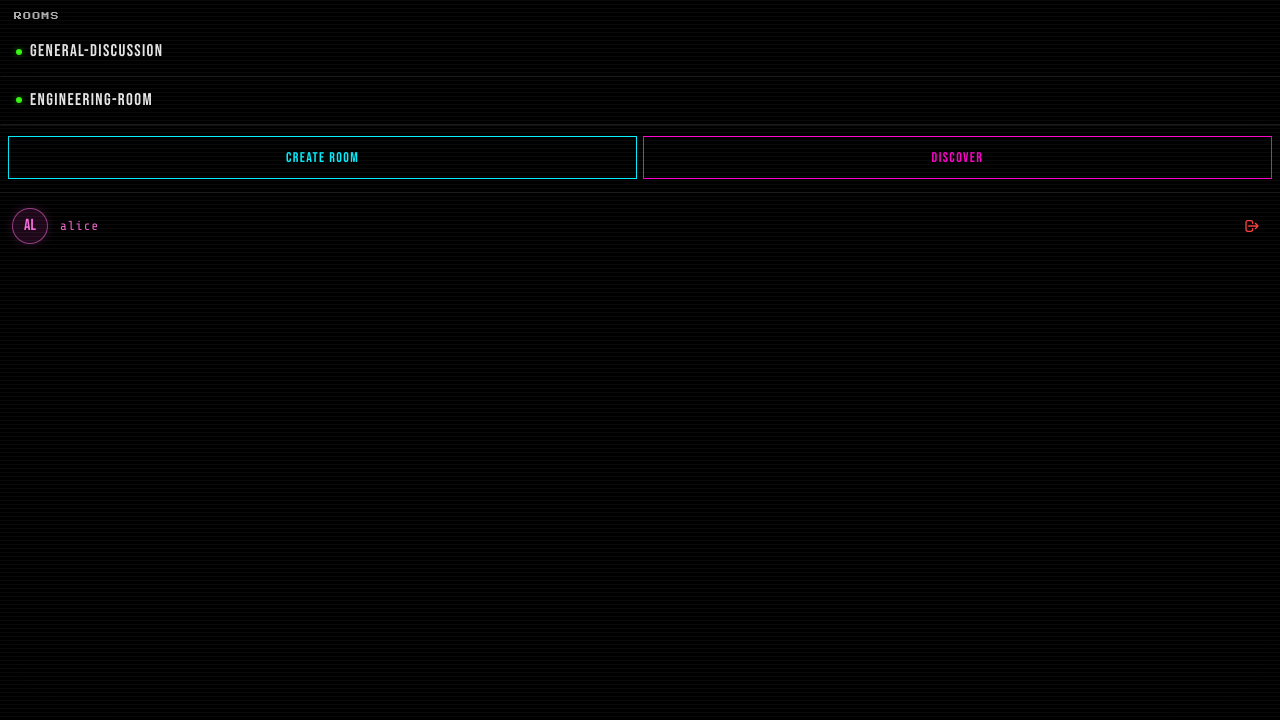
Test case: RoomList › creates room, closes modal, and selects the new room
Expected: the text "General-Discussion" is shown, [30,41,163,61]
Click the button titled "Create new room".
click(322, 158)  # box [8,136,637,179]
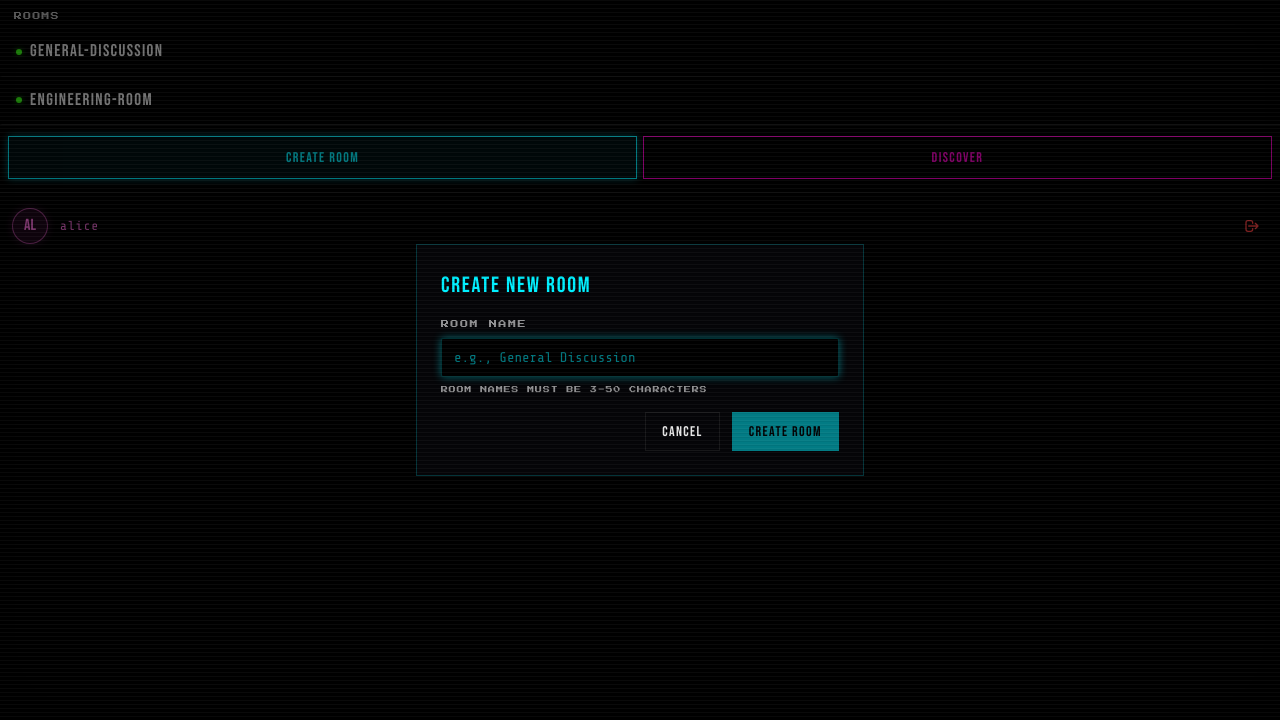
Type "Brand New Room" into the field labelled "ROOM NAME".
click(640, 358); type("Brand New Room")  # box [441,338,839,377]
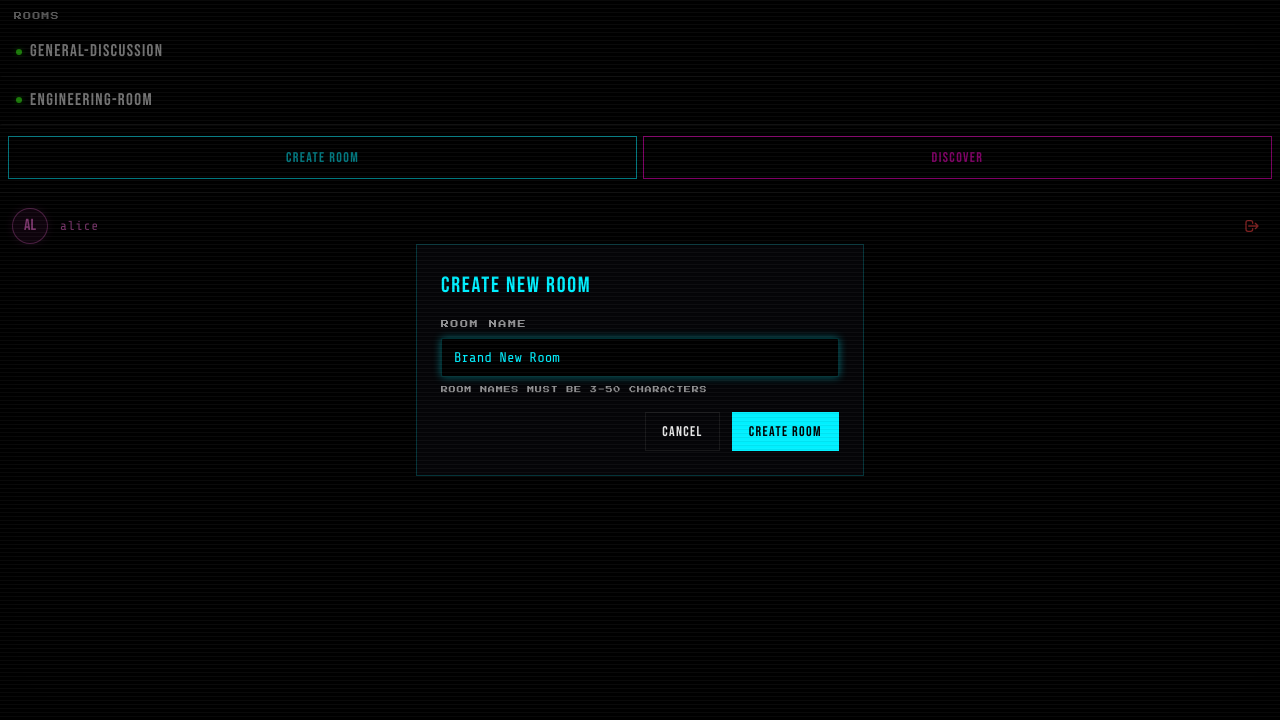
Click the button "CREATE ROOM".
click(785, 431)  # box [732,412,839,451]
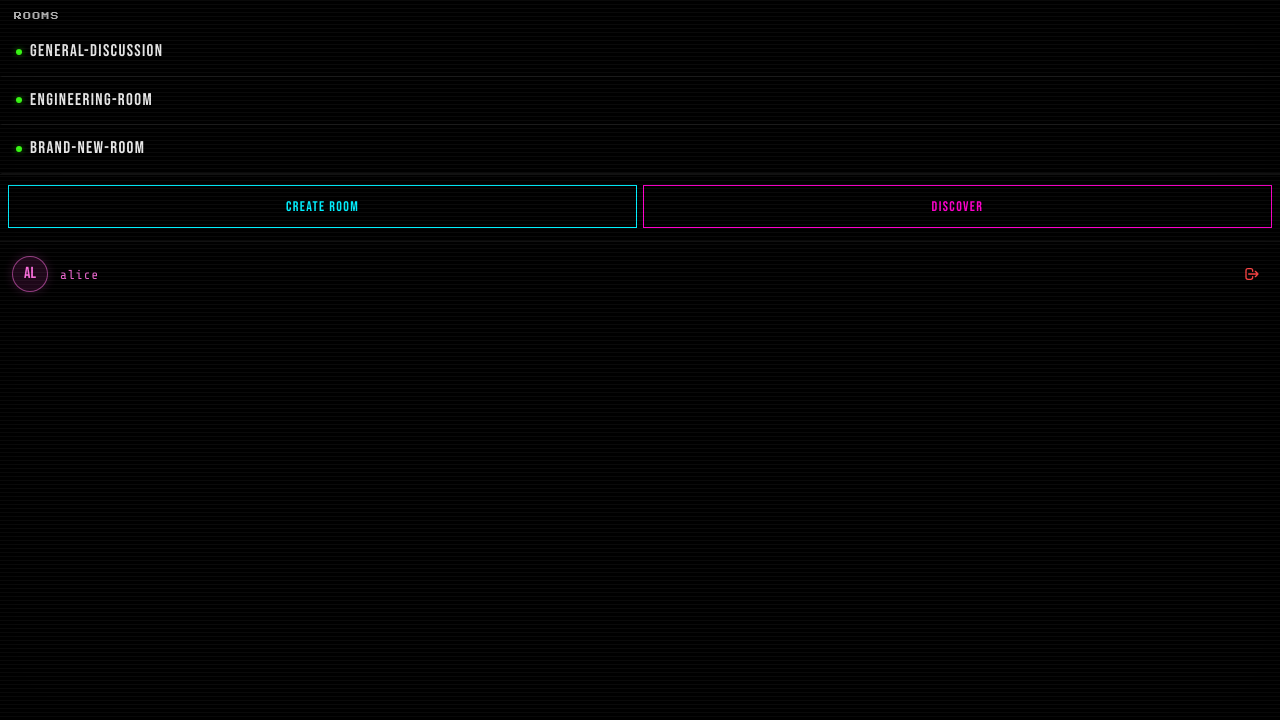
Expected: the heading "Create New Room" is gone
